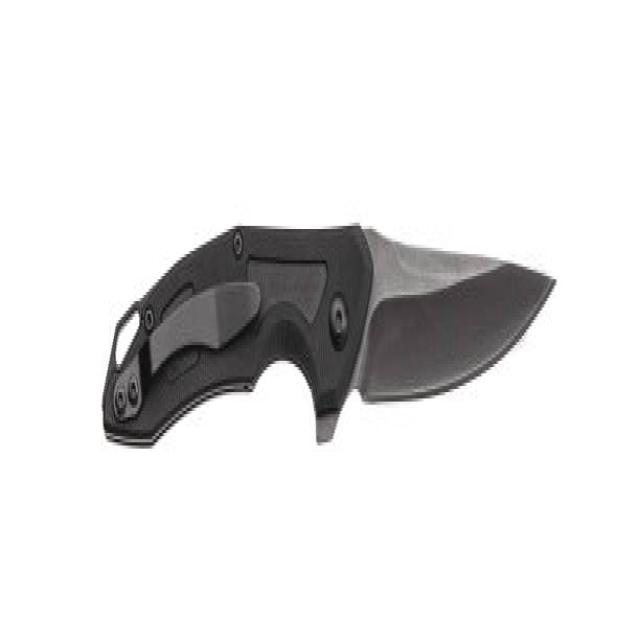knife: (91, 199, 567, 483)
